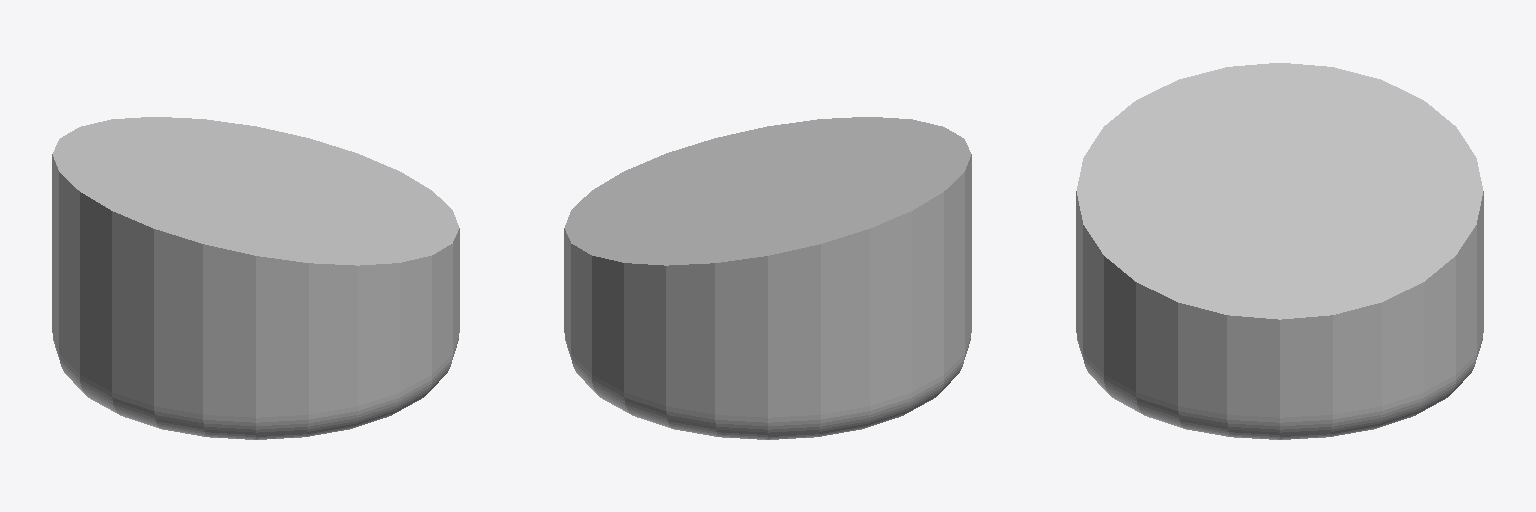
File: setPotions__10.obj
The picture shows the model from 3 angles: view 1: azimuth 30°, elevation 25°; view 2: azimuth 150°, elevation 25°; view 3: azimuth 270°, elevation 25°; orthographic projection.
Visible parts, largest first — view 1: grp10; view 2: grp10; view 3: grp10.
Part boxes in pixels (x1,y1,x2,y2): grp10: (52, 117, 459, 439); grp10: (564, 117, 971, 439); grp10: (1076, 63, 1483, 439).
Bounding box in the file's own units: 2.5 × 1.46 × 2.5.